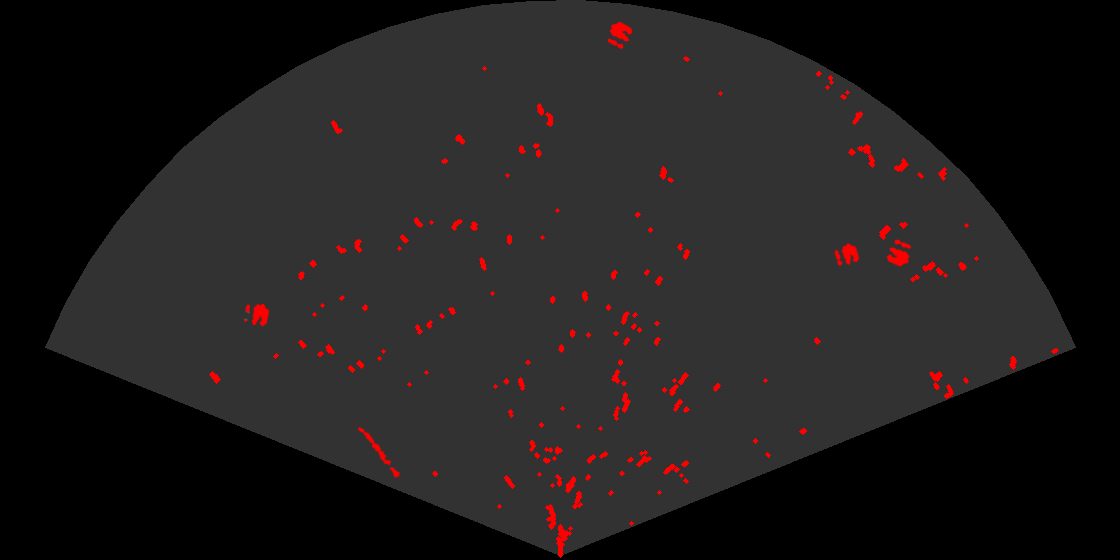ball: (606, 20, 635, 51), (885, 238, 913, 268), (242, 302, 271, 329), (833, 241, 861, 268)
chain: (354, 419, 404, 481)
